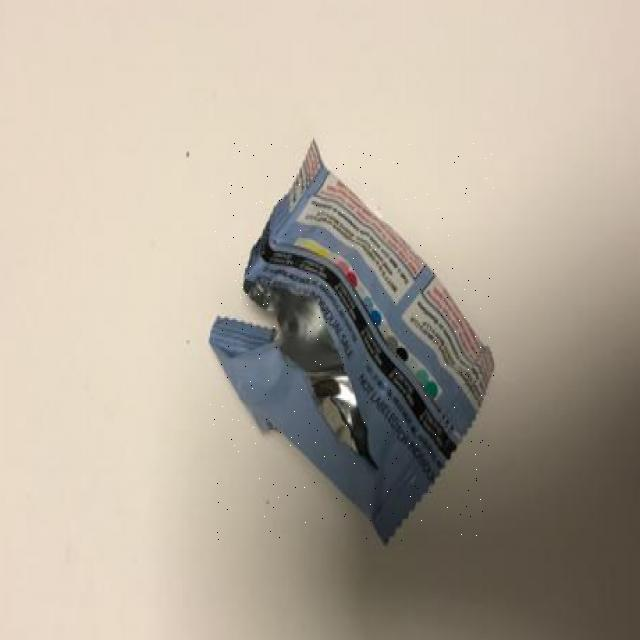wrapper: (210, 142, 494, 542)
